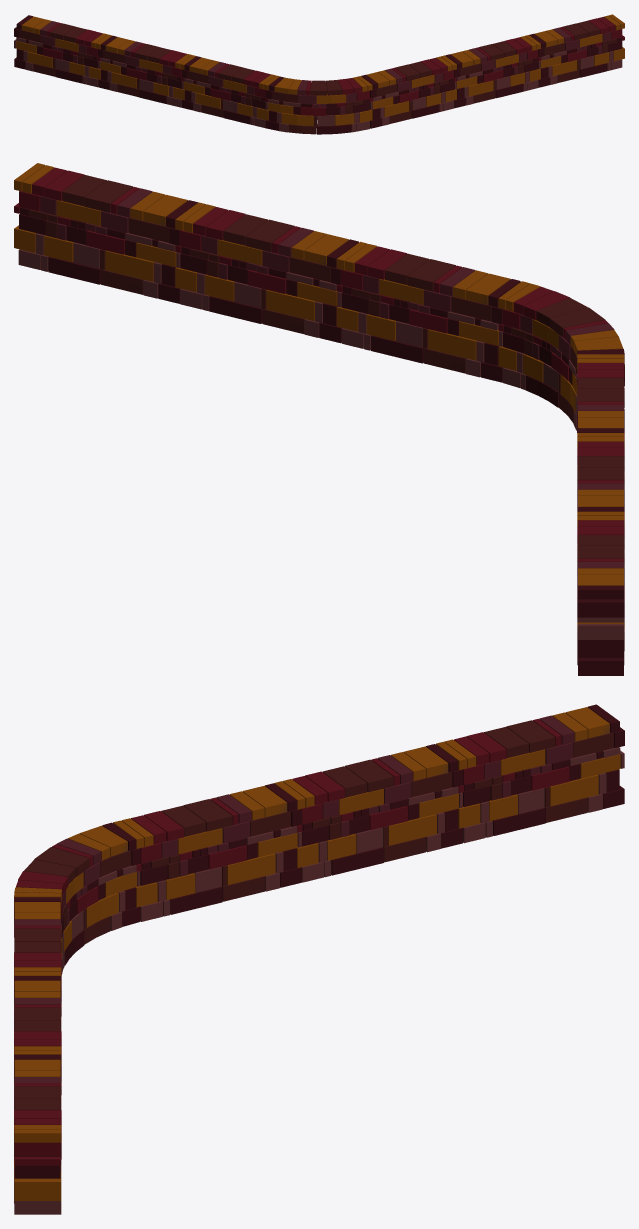
Rendered from WallRed2.fbx.
3 views of the same model, one above another, from view 1: azimuth 30°, elevation 25°; view 2: azimuth 150°, elevation 25°; view 3: azimuth 270°, elevation 25° (orthographic). The views are drawn at different scales.
Visible parts, largest first — view 1: WallRed2; view 2: WallRed2; view 3: WallRed2.
Part boxes in pixels (x1=…): WallRed2: x1=14, y1=14, x2=624, y2=134; WallRed2: x1=14, y1=163, x2=624, y2=675; WallRed2: x1=14, y1=704, x2=624, y2=1214.
Size of the model in its own units: 109 by 9.9 by 65.55.
1 material, 1 textured.
